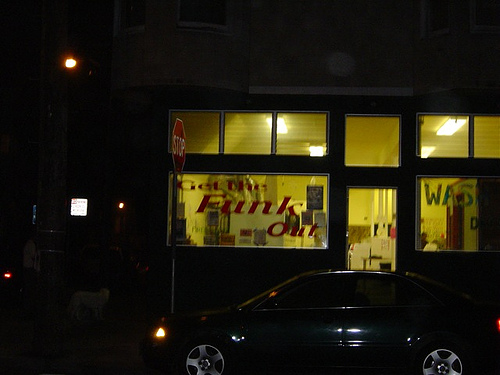car: (141, 263, 499, 375)
